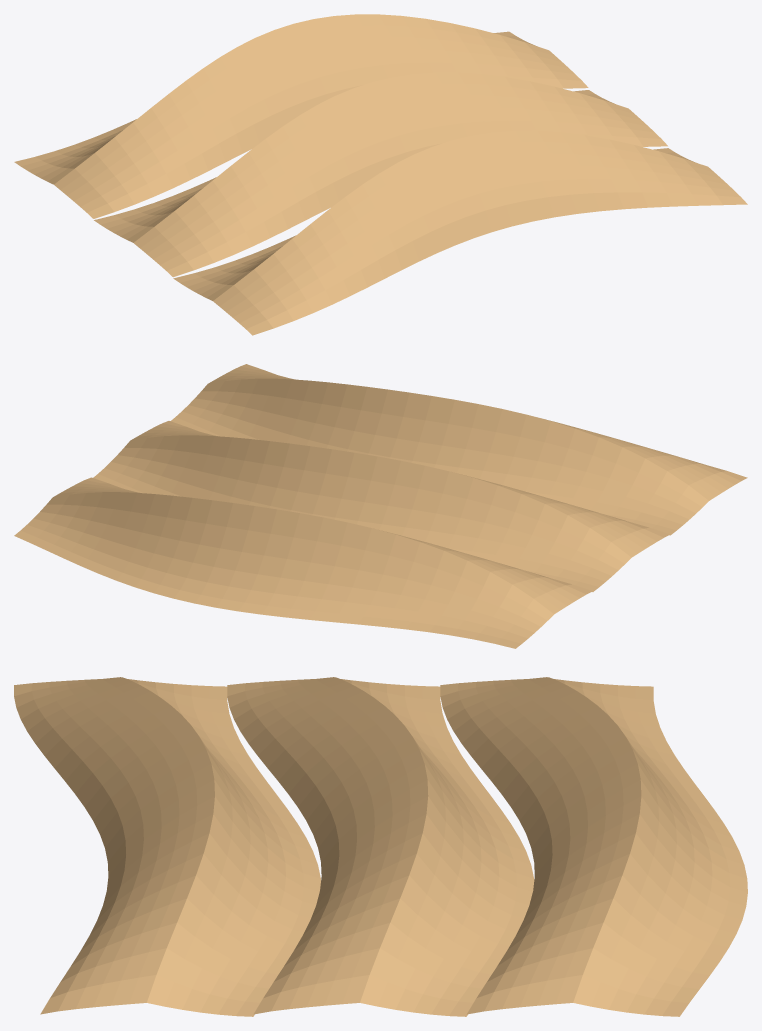
File: FEATURE_DUNES_v01.fbx
The picture shows the model from 3 angles, top to bottom: view 1: azimuth 30°, elevation 25°; view 2: azimuth 150°, elevation 25°; view 3: azimuth 270°, elevation 25°; orthographic projection. The views are drawn at different scales.
Parts seen in each view (by area): view 1: Wind_sculpted_dune.003, Wind_sculpted_dune.005, Wind_sculpted_dune.004; view 2: Wind_sculpted_dune.005, Wind_sculpted_dune.003, Wind_sculpted_dune.004; view 3: Wind_sculpted_dune.005, Wind_sculpted_dune.003, Wind_sculpted_dune.004.
Part boxes in pixels (left/top/right/bottom): Wind_sculpted_dune.003: left=173, top=130, right=747, bottom=335; Wind_sculpted_dune.005: left=14, top=14, right=588, bottom=218; Wind_sculpted_dune.004: left=94, top=72, right=667, bottom=277; Wind_sculpted_dune.005: left=14, top=477, right=592, bottom=648; Wind_sculpted_dune.003: left=170, top=364, right=747, bottom=535; Wind_sculpted_dune.004: left=93, top=421, right=669, bottom=591; Wind_sculpted_dune.005: left=440, top=677, right=747, bottom=1016; Wind_sculpted_dune.003: left=14, top=677, right=320, bottom=1016; Wind_sculpted_dune.004: left=227, top=677, right=534, bottom=1016.
Bounding box in the file's own units: 132 × 18.99 × 124.
